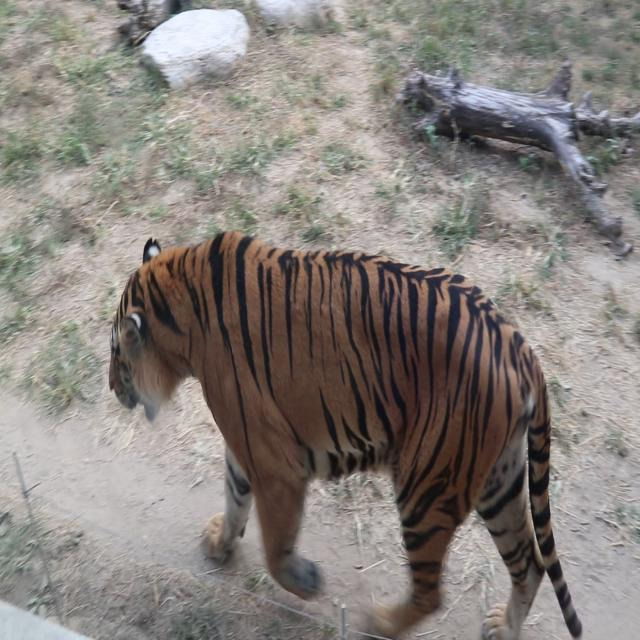Tiger: (97, 185, 594, 640)
